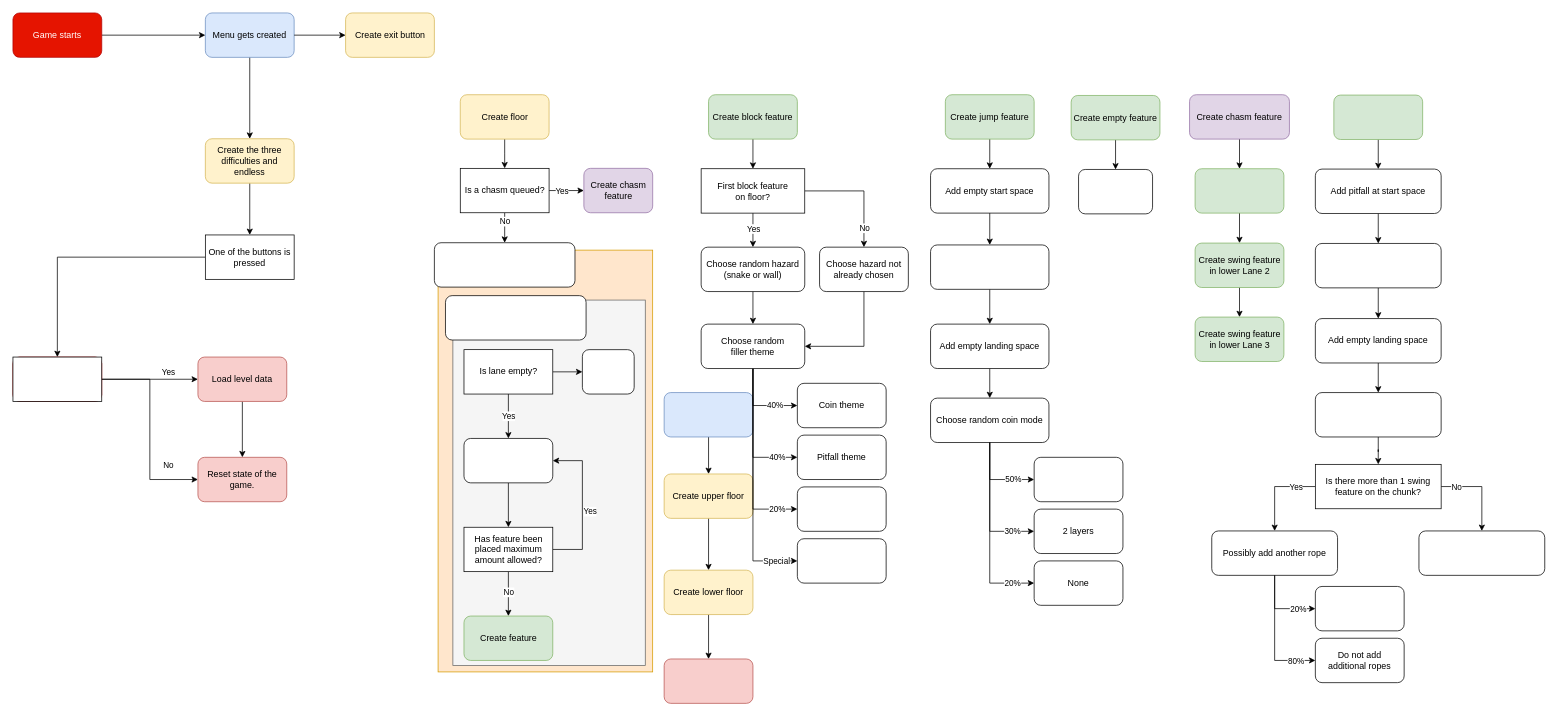
Image size: 1558x716. Some labels were removed from this diagram. The centre of each missing label's shape, as x and y in pixels:
"1 layer" belongs at [1078,479].
"Add 3 layers of coins over additional pitfalls" belongs at [1378,414].
"Add additional pitfalls equal to 1 less than swing distance" belongs at [1378,265].
"Add nothing" belongs at [1115,191].
"Add pitfalls equal to 1 less than jump distance" belongs at [989,266].
"Add rope above a different start space of 1 swing feature" belongs at [1359,608].
"Add rope above start space" belongs at [1481,552].
"Choose random feature ID" belongs at [508,460].
"Create swing feature" belongs at [1378,116].
"Create swing feature in lower Lane 1" belongs at [1239,190].
"Drop theme" belongs at [841,560].
"Empty theme" belongs at [841,508].
"Is it first time loading the level?" belongs at [57,378].
"Loop through lanes (x axis: -1, 0, +1)" belongs at [515,317].
"Loop through sections (lower, upper)" belongs at [504,264].
"Request next chunk" belongs at [708,414].
"Return chunk data" belongs at [708,680].
"Skip lane" belongs at [608,371].
